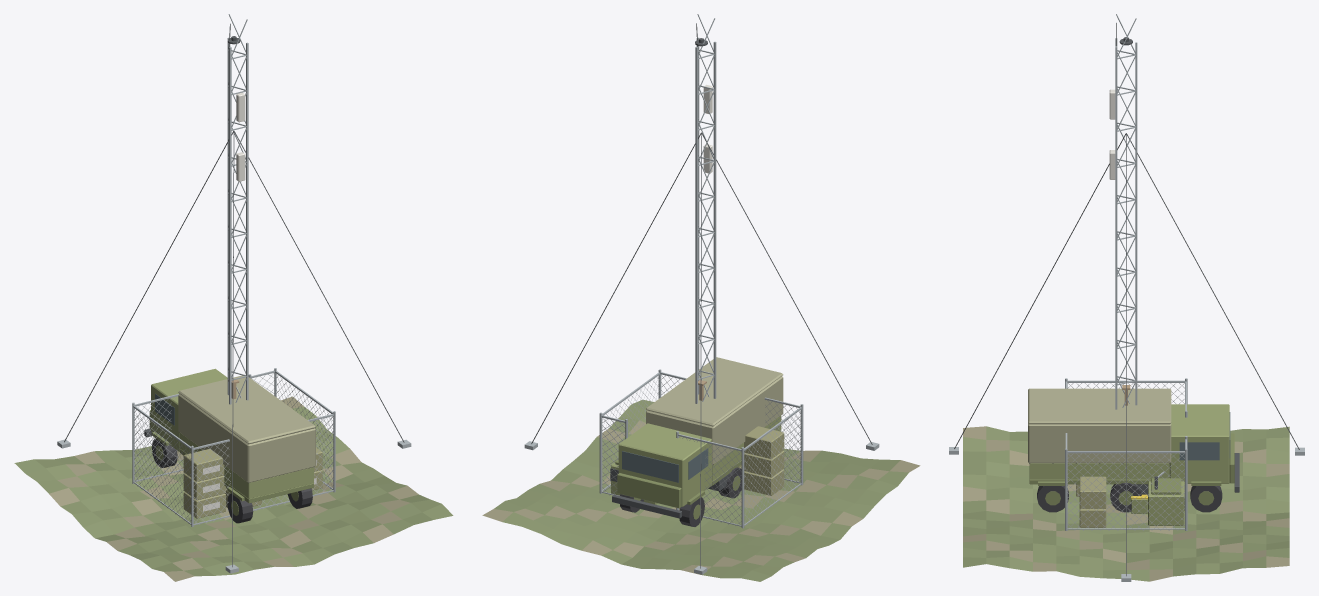
File: hollis_yard.glb
The picture shows the model from 3 angles, left to right: view 1: azimuth 30°, elevation 25°; view 2: azimuth 150°, elevation 25°; view 3: azimuth 270°, elevation 25°; orthographic projection.
Parts seen in each view (by area): view 1: mt_net_mesh, mt_truck_mesh, mt_cage_mesh, mt_mast_mesh; view 2: mt_net_mesh, mt_truck_mesh, mt_cage_mesh, mt_mast_mesh; view 3: mt_net_mesh, mt_truck_mesh, mt_mast_mesh, mt_cage_mesh.
Boxes of the visible parts, left/top/right/bottom form: mt_net_mesh: left=14, top=396, right=453, bottom=581; mt_truck_mesh: left=144, top=368, right=315, bottom=523; mt_cage_mesh: left=132, top=368, right=335, bottom=526; mt_mast_mesh: left=57, top=14, right=411, bottom=573; mt_net_mesh: left=482, top=400, right=920, bottom=581; mt_truck_mesh: left=612, top=357, right=783, bottom=526; mt_cage_mesh: left=599, top=369, right=803, bottom=528; mt_mast_mesh: left=524, top=14, right=879, bottom=574; mt_net_mesh: left=963, top=426, right=1289, bottom=581; mt_truck_mesh: left=1028, top=388, right=1239, bottom=512; mt_mast_mesh: left=949, top=14, right=1304, bottom=581; mt_cage_mesh: left=1065, top=378, right=1187, bottom=530.
Size of the model in its own units: 11.05 by 16.47 by 10.68.
